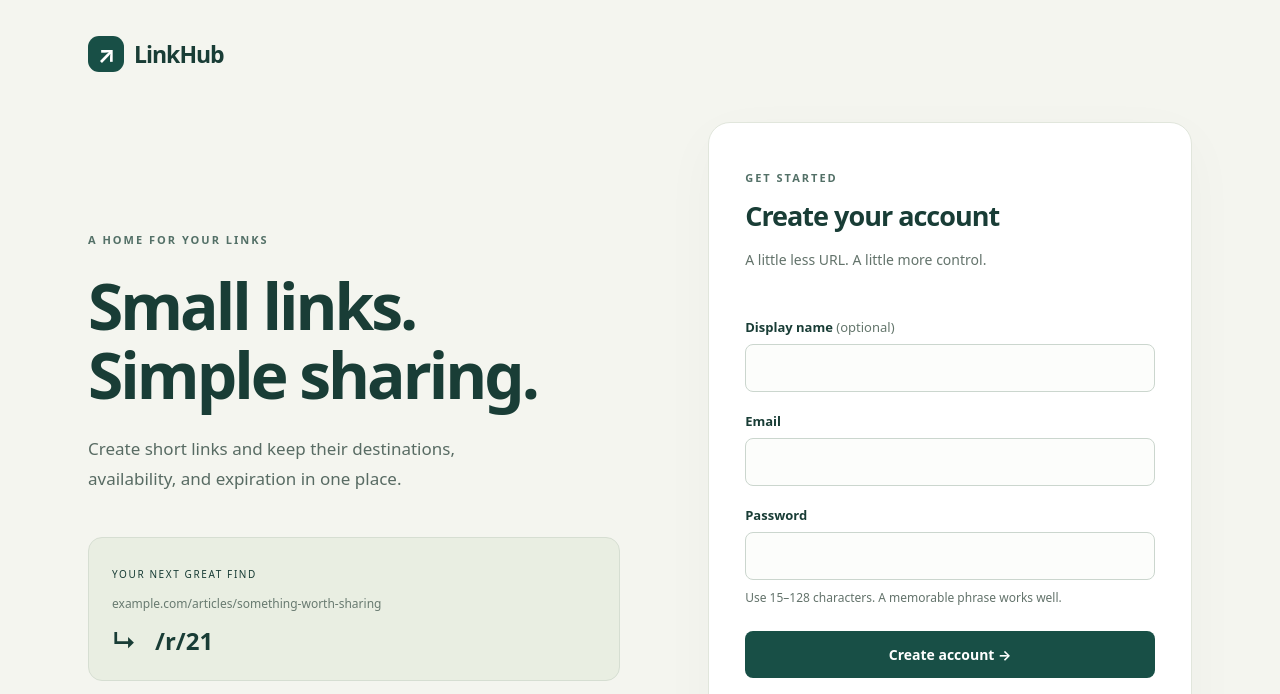
Test case: shows API error 409 and lets the user retry
Type "Reader@example.com" into the field labelled "Email" at x=950, y=462, box x1=745 y1=438 x2=1155 y2=486
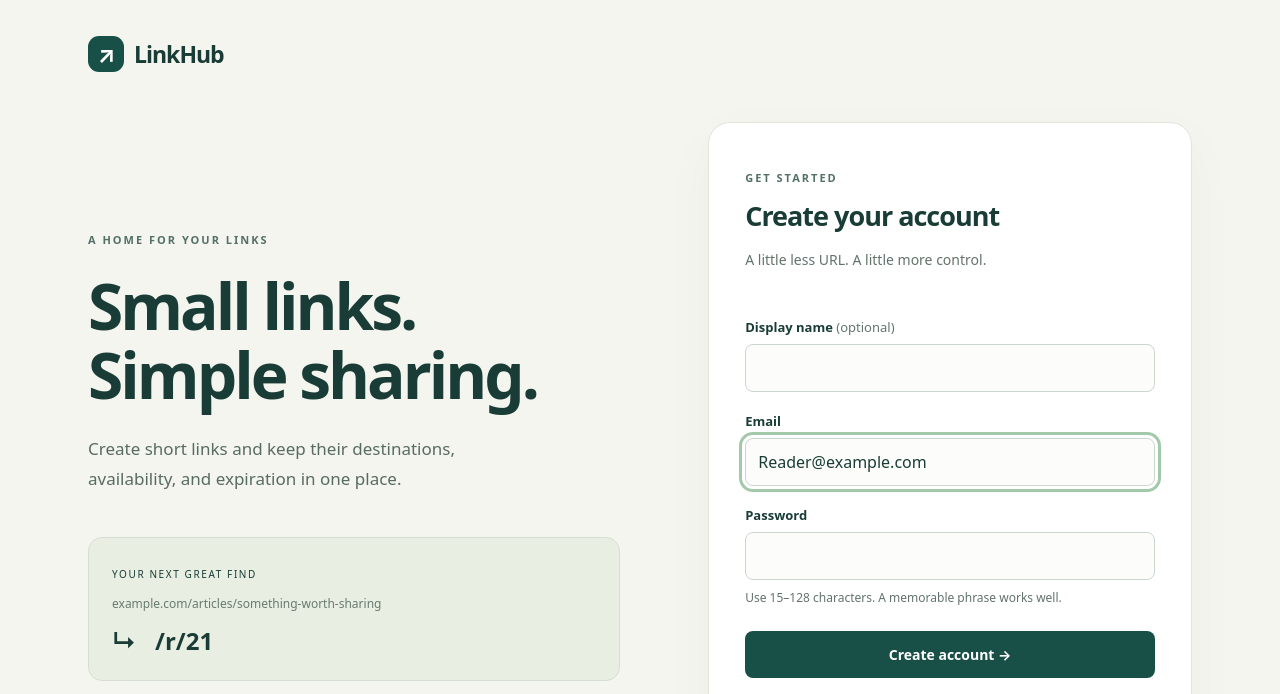
Type "a long test phrase 123" into the password field labelled "Password" at x=950, y=556, box x1=745 y1=532 x2=1155 y2=580
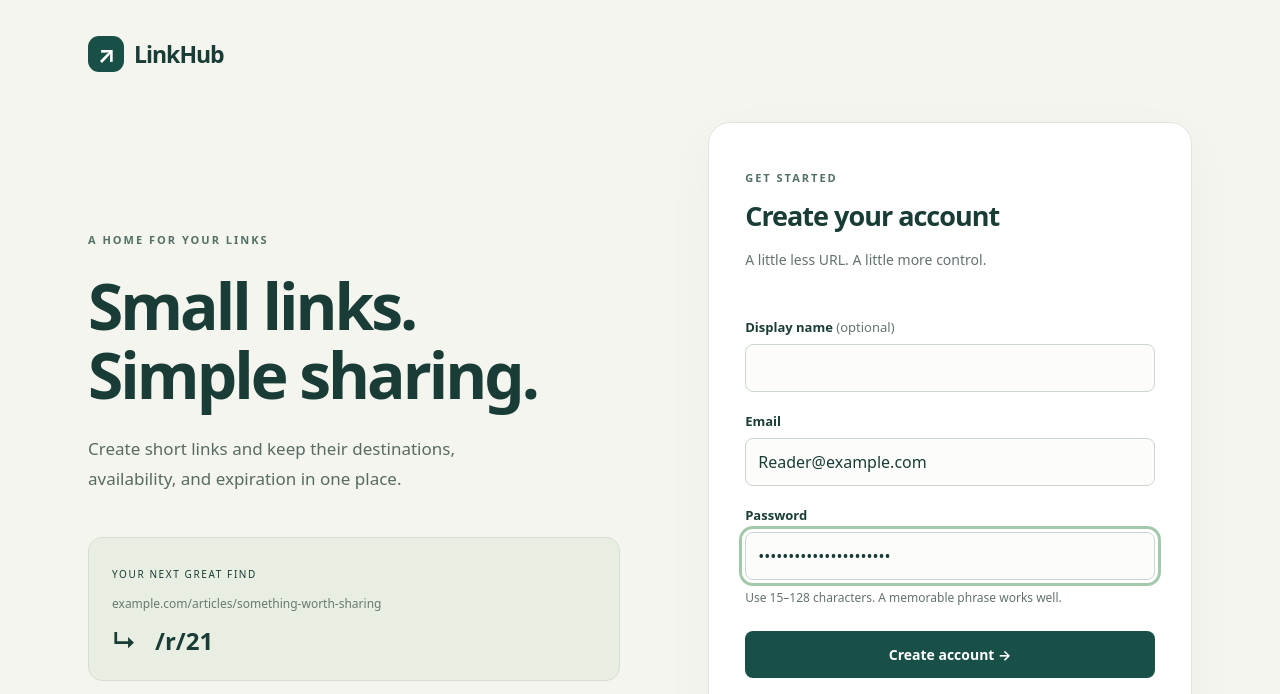
Click the button "Create account →" at x=950, y=654, box x1=745 y1=631 x2=1155 y2=678
(page scrolled)
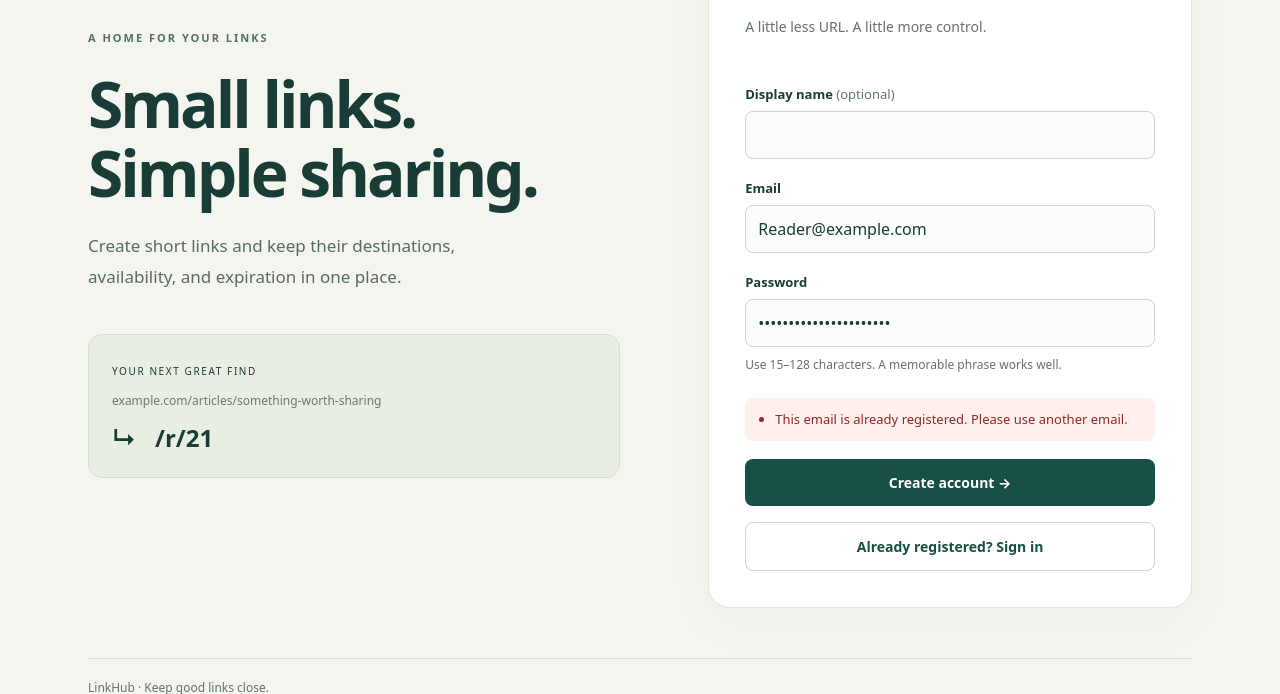
Expected: the button "Create account →" is enabled, x1=745 y1=460 x2=1155 y2=506
Result: the message shows "already registered" at x1=775 y1=410 x2=1128 y2=428
